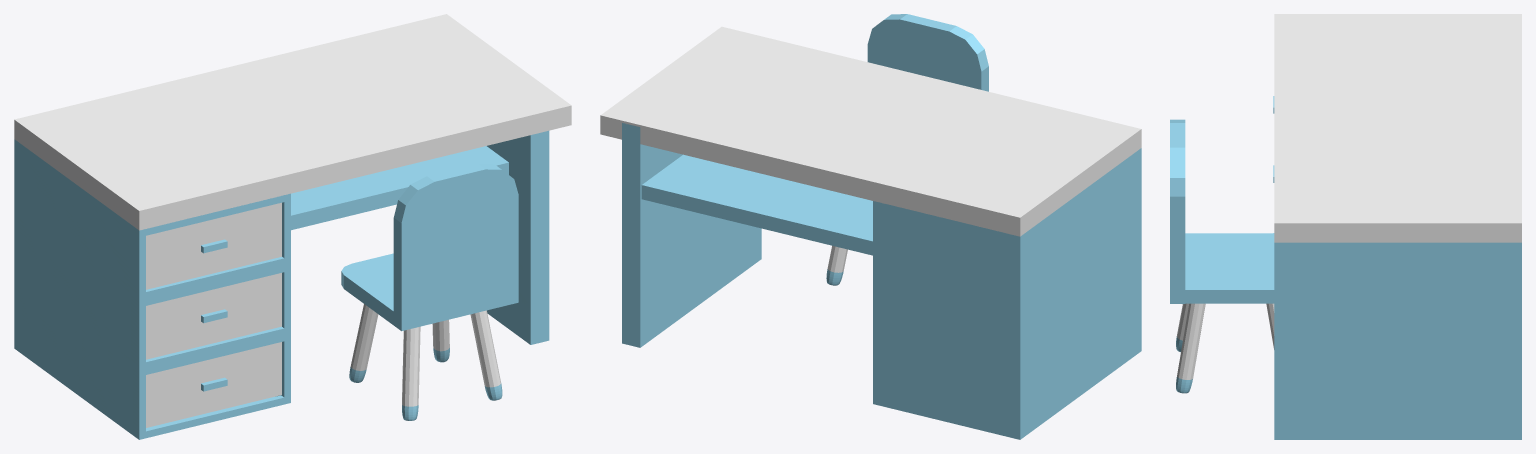
The model's file is TABLE-and-chair-Bedroom.fbx.
The picture shows the model from 3 angles, left to right: view 1: azimuth 30°, elevation 25°; view 2: azimuth 150°, elevation 25°; view 3: azimuth 270°, elevation 25°; orthographic projection. The views are drawn at different scales.
Parts seen in each view (by area): view 1: Cube.027, Cube.001, Cube.025, Cube.019, Cube.020; view 2: Cube.027, Cube.001; view 3: Cube.027, Cube.001.
Boxes of the visible parts, <box> form: Cube.027: <box>14,14,571,439</box>; Cube.001: <box>341,163,518,420</box>; Cube.025: <box>146,202,281,289</box>; Cube.019: <box>146,273,281,359</box>; Cube.020: <box>146,342,281,427</box>; Cube.027: <box>600,26,1141,439</box>; Cube.001: <box>826,14,988,285</box>; Cube.027: <box>1274,14,1521,439</box>; Cube.001: <box>1170,119,1274,393</box>.
Bounding box in the file's own units: 438 × 231 × 311.
